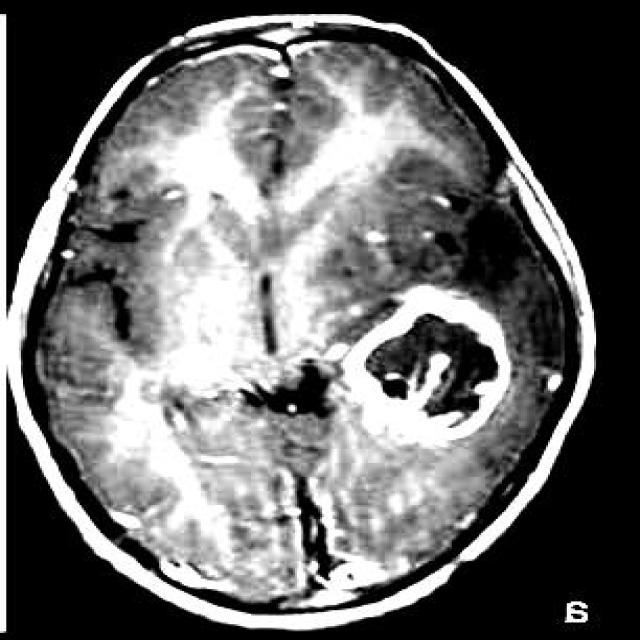Tumor-Cell: (364, 277, 520, 428)
